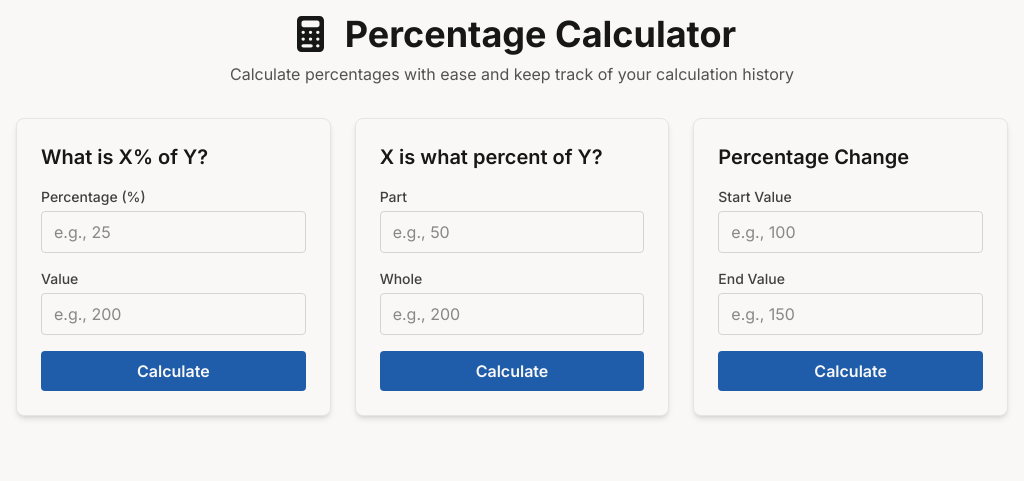
PercentageCalculator › X is what percent of Y? Calculator › shows error when whole is zero
This screenshot has width=1024, height=481.
Type "50" into the number field labelled "Part" at (512, 232), box [380,211,644,253]
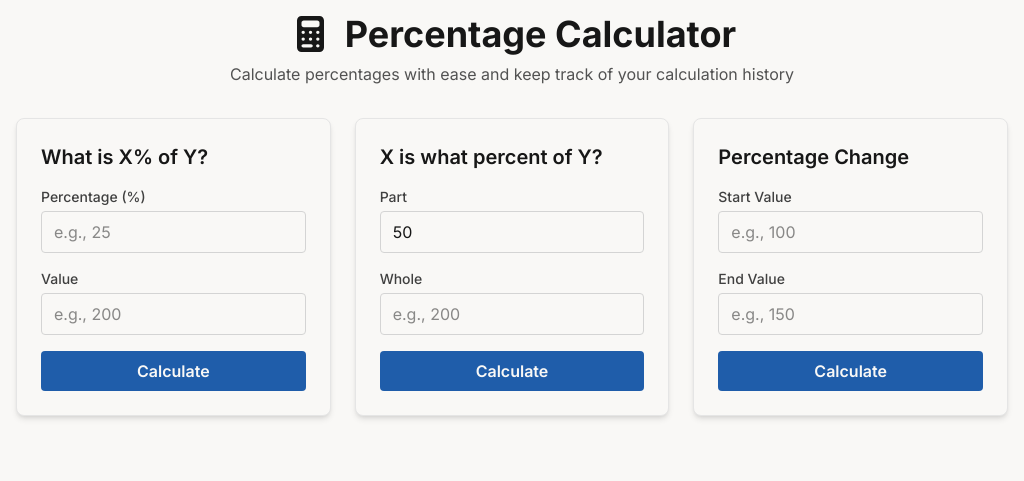
Type "0" into the number field labelled "Whole" at (512, 314), box [380,293,644,335]
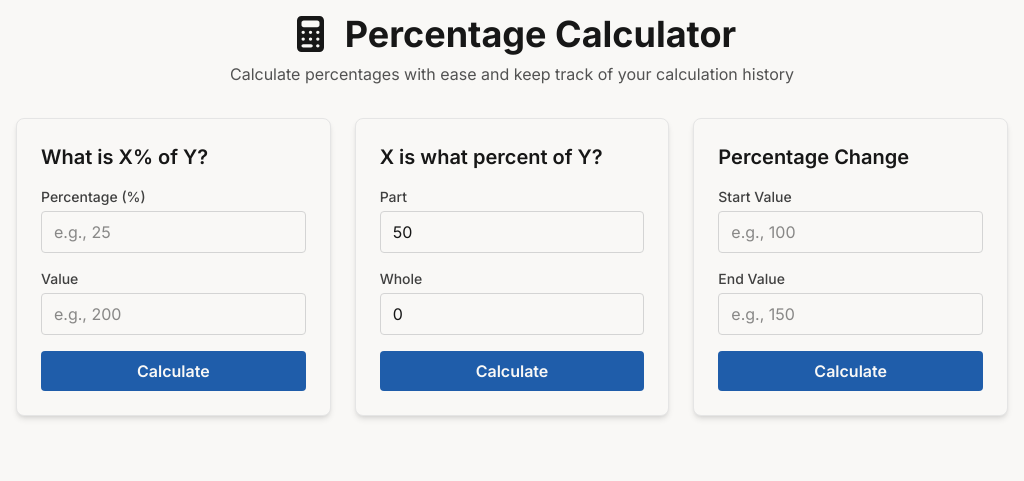
Click the button "Calculate" below "Whole" at (512, 371), box [380,351,644,391]
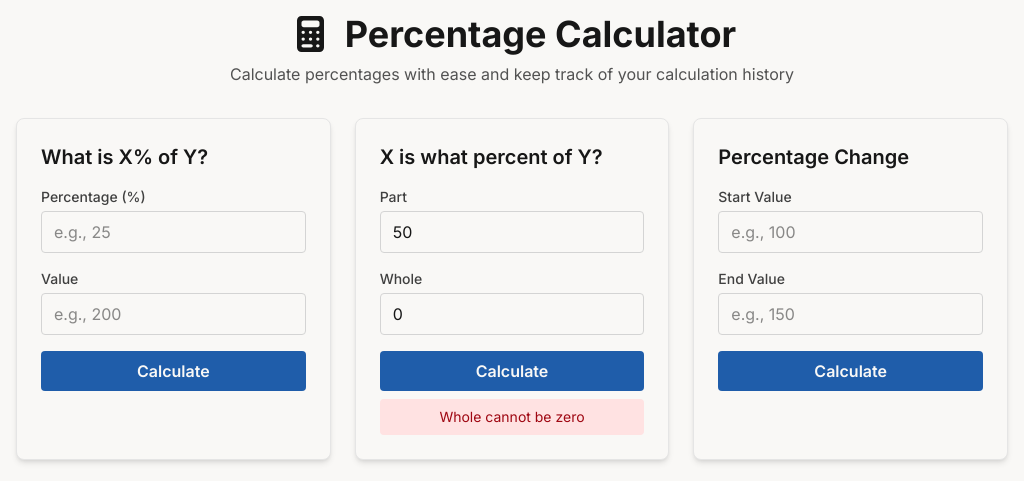
Now the text "Whole cannot be zero" is shown, box [380,399,644,435]
